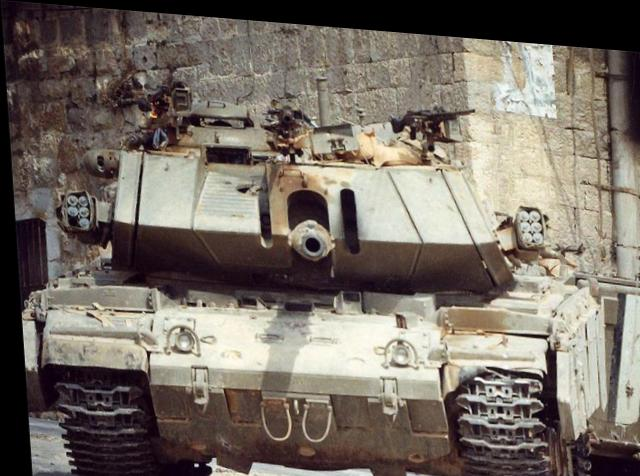other: (114, 69, 192, 153)
tank: (38, 126, 593, 474)
